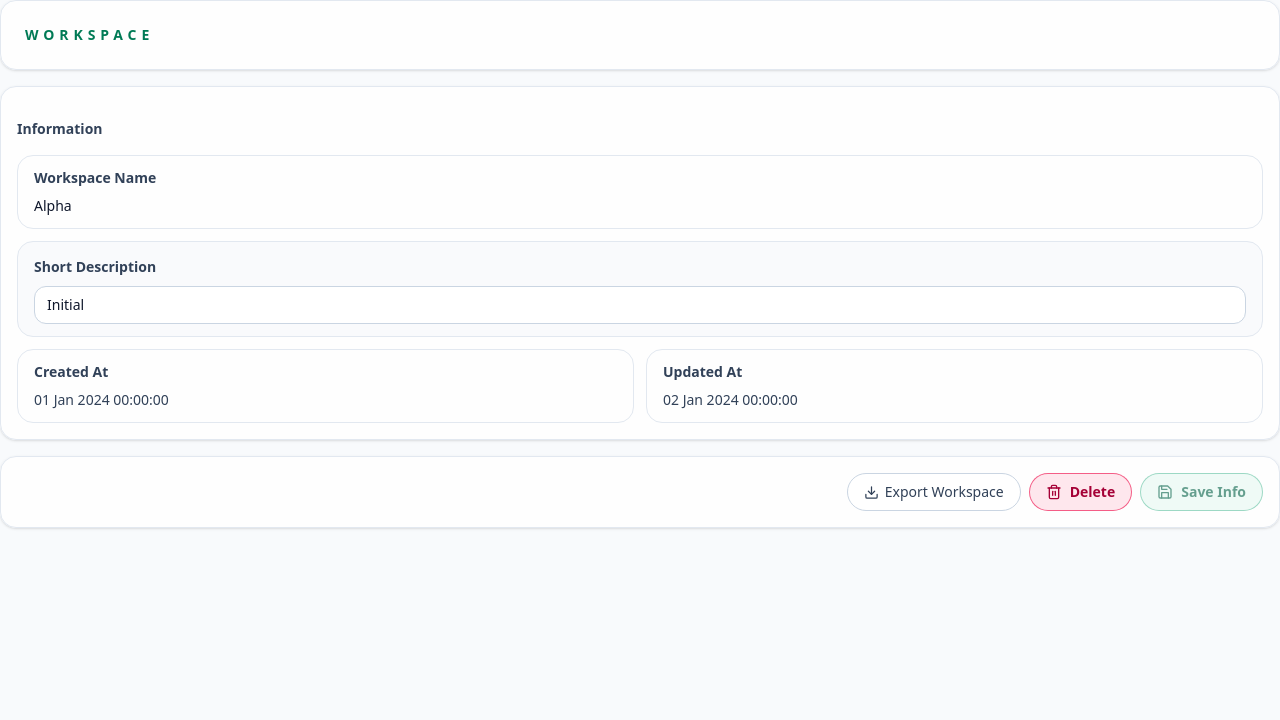
Test case: WorkspacePage › shows delete errors
The width and height of the screenshot is (1280, 720).
Click the button "Delete".
click(1080, 492)  # box 1029,473 -> 1132,511
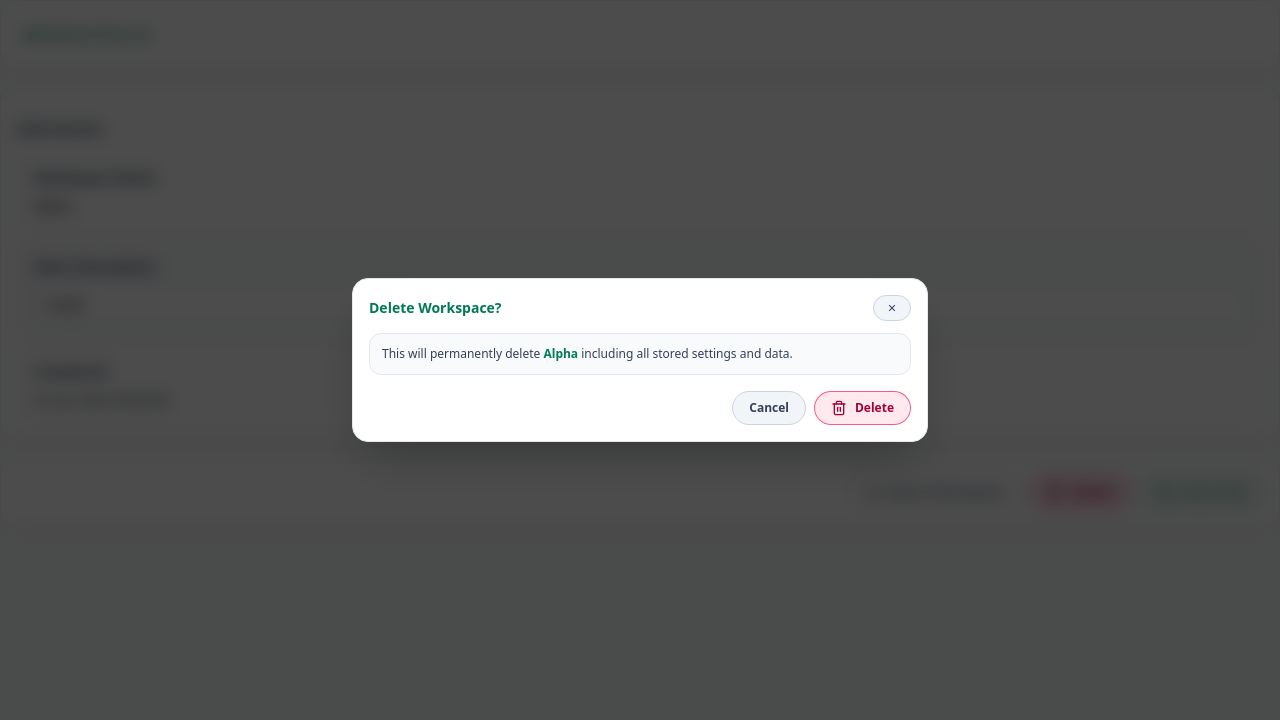
Click the button "Delete".
click(862, 408)  # box 814,391 -> 911,425
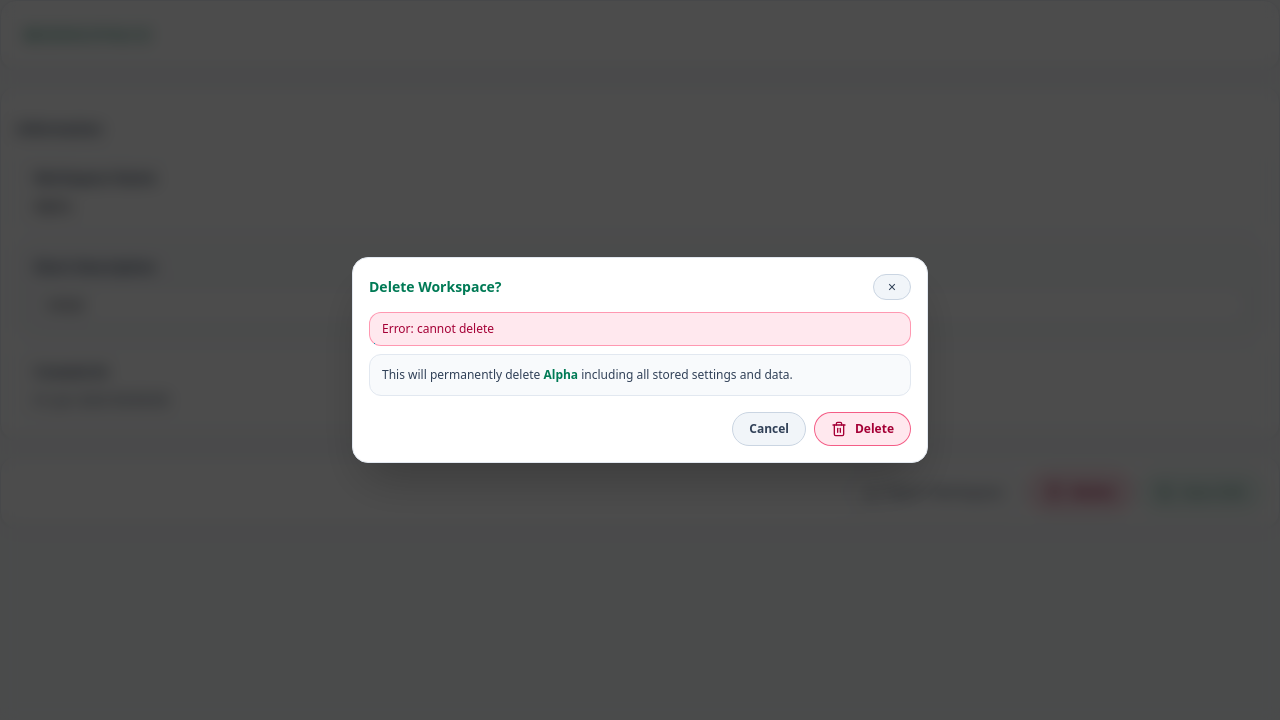
Now the text "Error: cannot delete" is shown, box 369,312 -> 911,346
